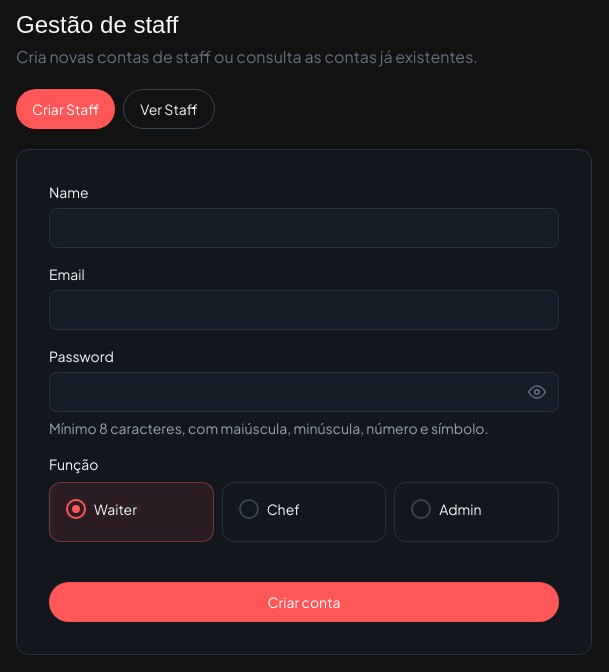
Test: AdminPage › creates a staff account with the selected role and shows a success toast
Type "Ana Silva" into the field labelled "Name" at (304, 228), box [49,208,559,248]
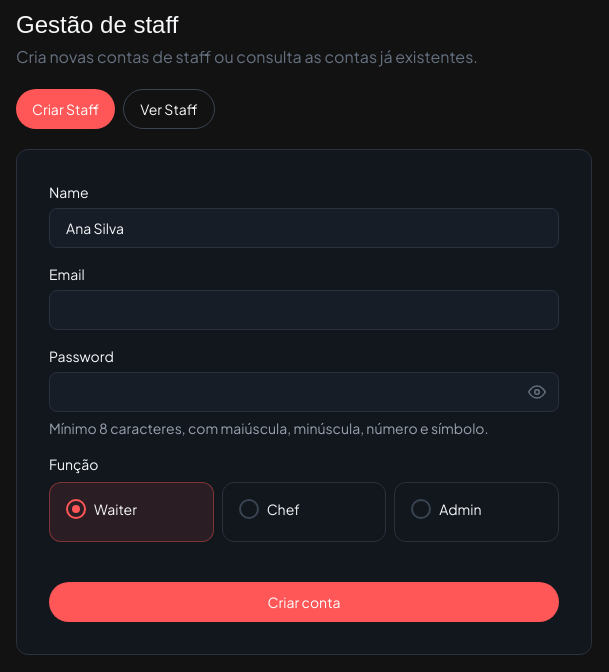
Type "ana@test.dev" into the field labelled "Email" at (304, 310), box [49,290,559,330]
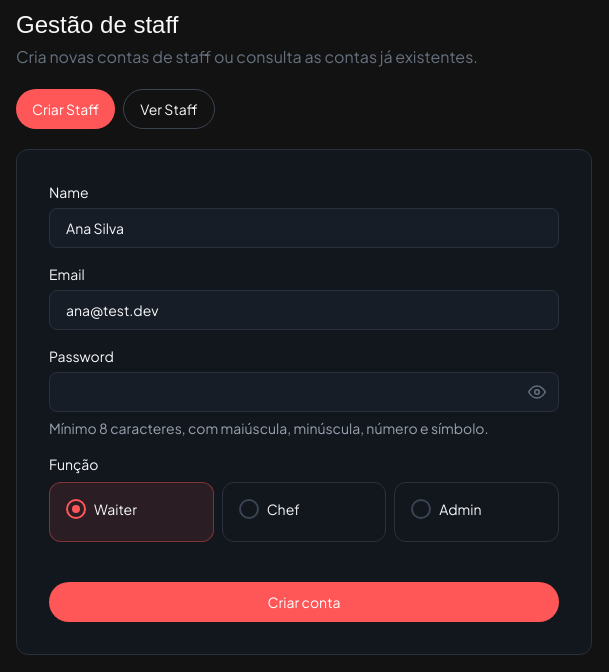
Type "safe-password" into the password field labelled "Password" at (304, 392), box [49,372,559,412]
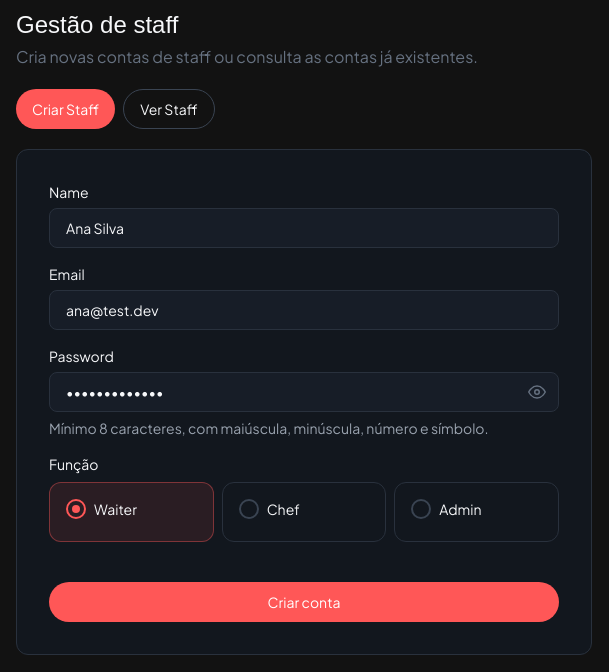
Click the radio button labelled "Chef" at (269, 509), box [239,499,300,519]
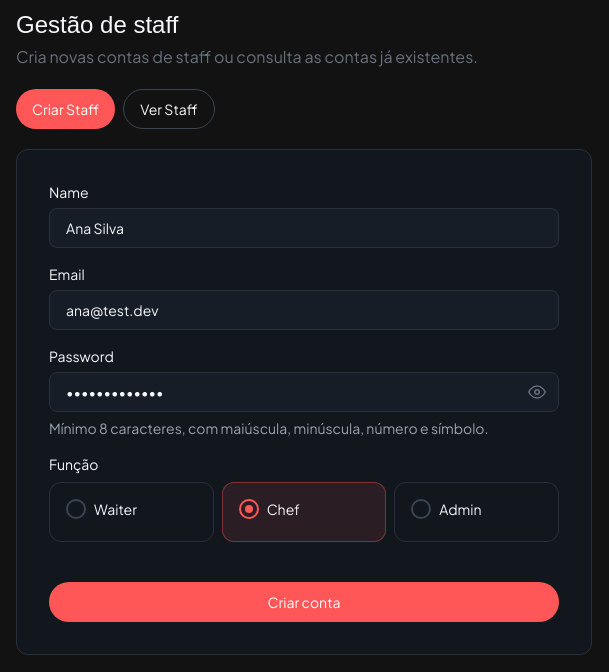
Click the button "Criar conta" at (304, 602), box [49,582,559,622]
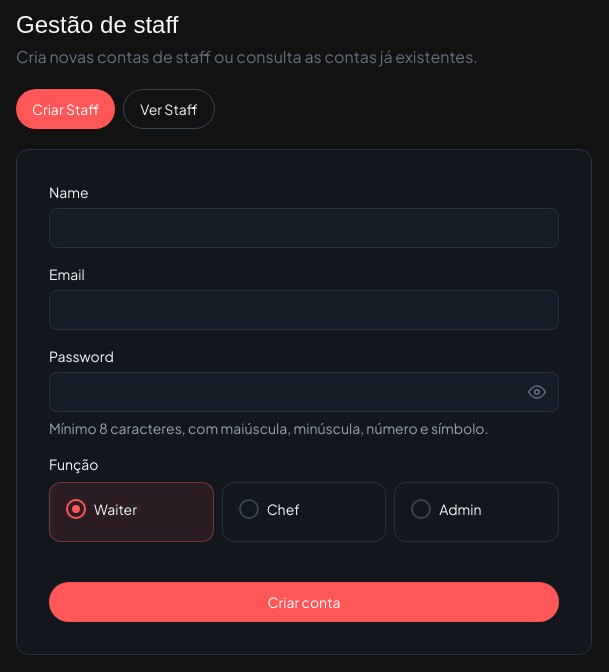
Result: the field labelled "Name" is empty at [49,208,559,248]
Result: the radio button labelled "Waiter" is checked at [66,499,137,519]
